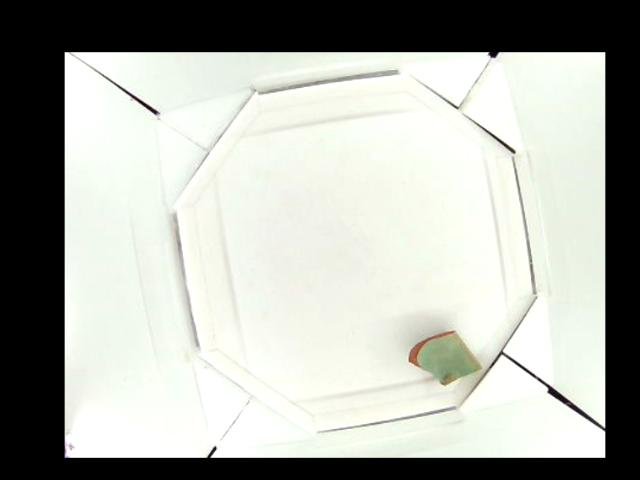China: (406, 329, 484, 384)
